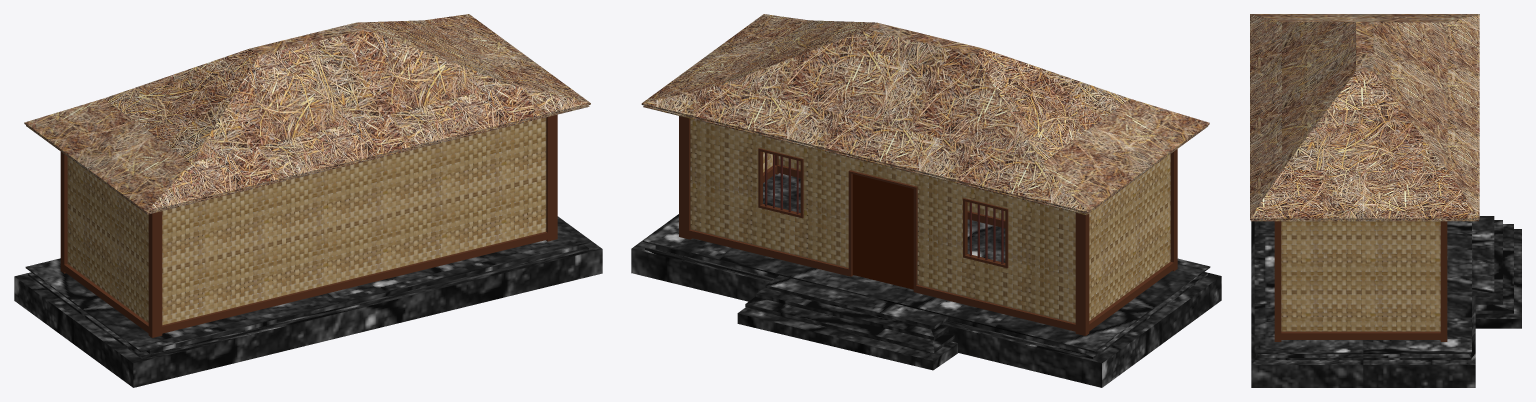
File: Bangunan Paon_Dapur.fbx
The picture shows the model from 3 angles, left to right: view 1: azimuth 30°, elevation 25°; view 2: azimuth 150°, elevation 25°; view 3: azimuth 270°, elevation 25°; orthographic projection. The views are drawn at different scales.
Parts seen in each view (by area): view 1: Tiang Paon, Atap Paon, Pondasi Paon; view 2: Atap Paon, Tiang Paon, Pondasi Paon, Tangga Paon, Pintu Paon, Pagar Jendela Paon; view 3: Atap Paon, Tiang Paon, Pondasi Paon, Tangga Paon.
Part boxes in pixels (<box>): Tiang Paon: <box>60,114,557,337</box>; Atap Paon: <box>24,14,590,214</box>; Pondasi Paon: <box>14,216,602,387</box>; Atap Paon: <box>641,14,1209,215</box>; Tiang Paon: <box>679,116,1177,335</box>; Pondasi Paon: <box>631,173,1221,387</box>; Tangga Paon: <box>737,275,957,370</box>; Pintu Paon: <box>852,174,913,289</box>; Pagar Jendela Paon: <box>765,152,1003,264</box>; Atap Paon: <box>1250,14,1479,221</box>; Tiang Paon: <box>1274,221,1447,341</box>; Pondasi Paon: <box>1251,221,1475,387</box>; Tangga Paon: <box>1472,216,1521,328</box>.
Size of the model in its own units: 16.5 by 8.35 by 8.78.
